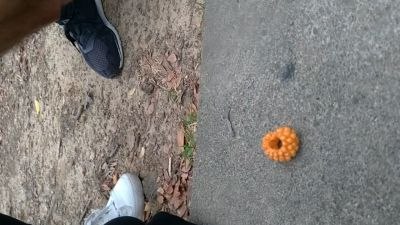eggs: (261, 126, 300, 165)
